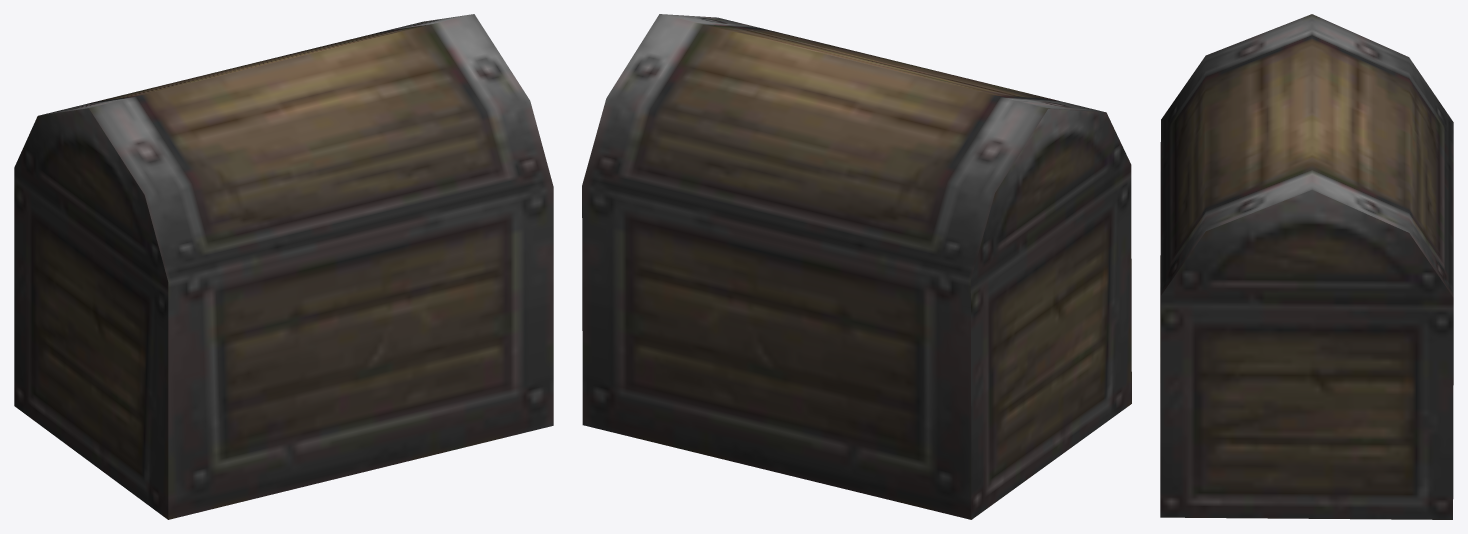
The model's file is h5_xiangzi.FBX.
3 views of the same model, side by side, from view 1: azimuth 30°, elevation 25°; view 2: azimuth 150°, elevation 25°; view 3: azimuth 270°, elevation 25° (orthographic). The views are drawn at different scales.
Visible parts, largest first — view 1: h5_xiangzi; view 2: h5_xiangzi; view 3: h5_xiangzi.
Boxes of the visible parts, bbox=[...] form: h5_xiangzi: bbox=[14, 14, 553, 519]; h5_xiangzi: bbox=[582, 14, 1131, 519]; h5_xiangzi: bbox=[1160, 14, 1453, 519].
Bounding box in the file's own units: 1.31 × 1.14 × 0.9186.
